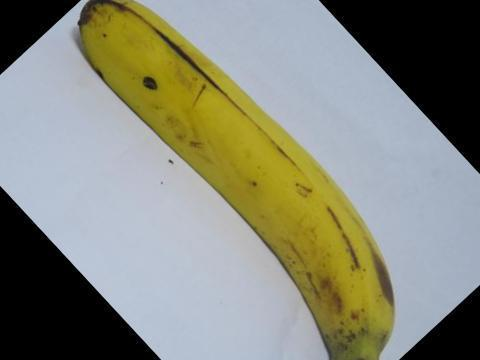ripe: (71, 0, 418, 359)
